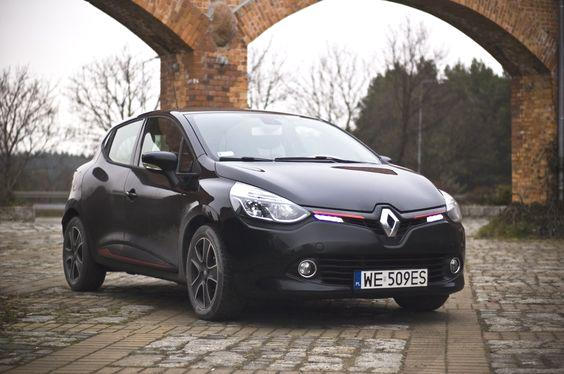Renault: (371, 202, 406, 249)
